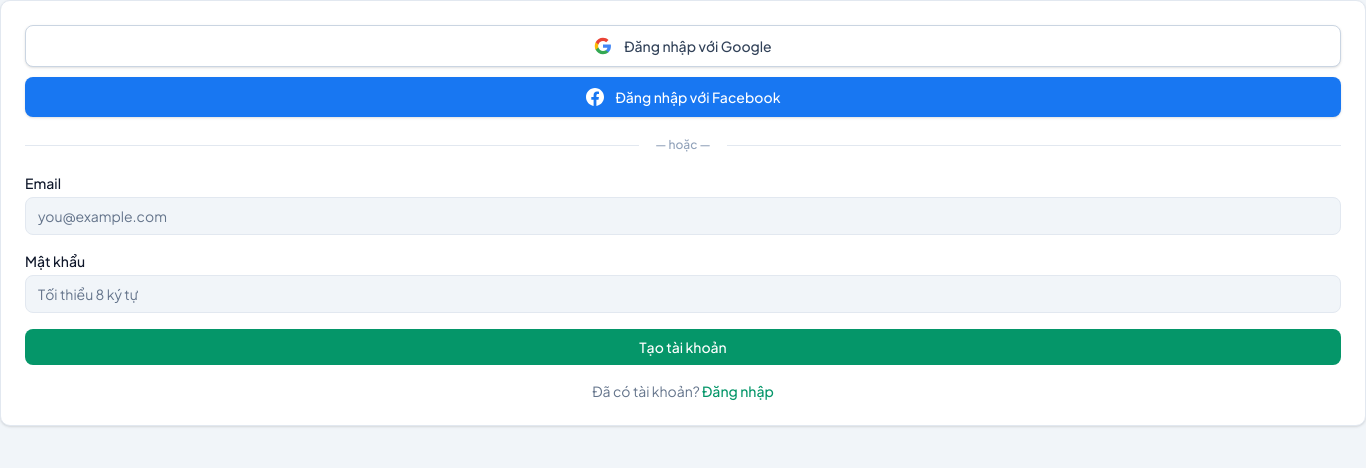
Test: RegisterForm › shows validation error on blur for short password
Type "short" into the password field labelled "Mật khẩu" at (683, 294), box [25,275,1341,313]
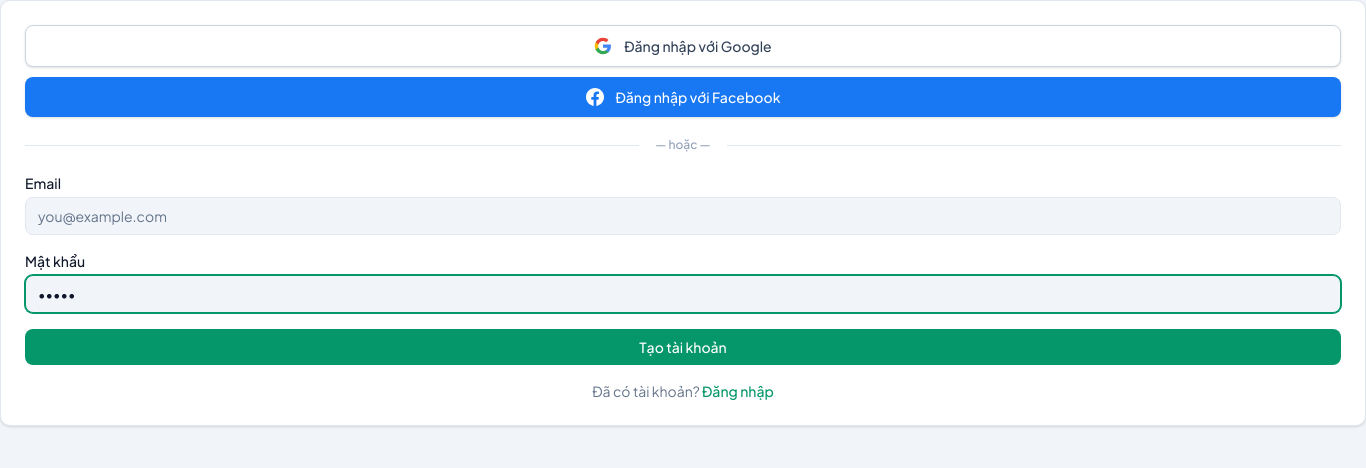
Press Tab
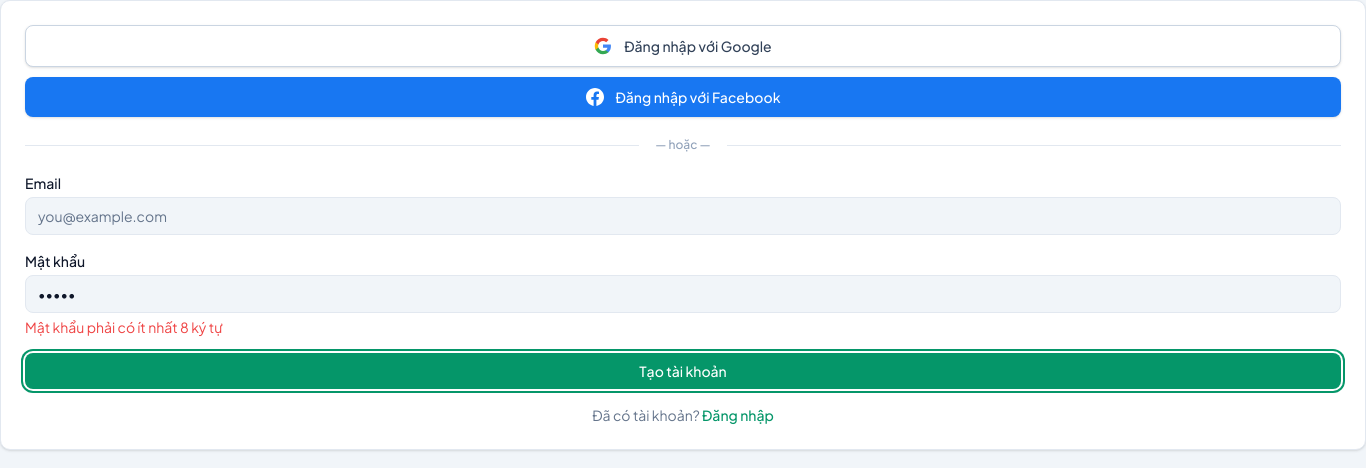
Expected: the text "Mật khẩu phải có ít nhất 8 ký tự" is shown, [25,318,222,336]
